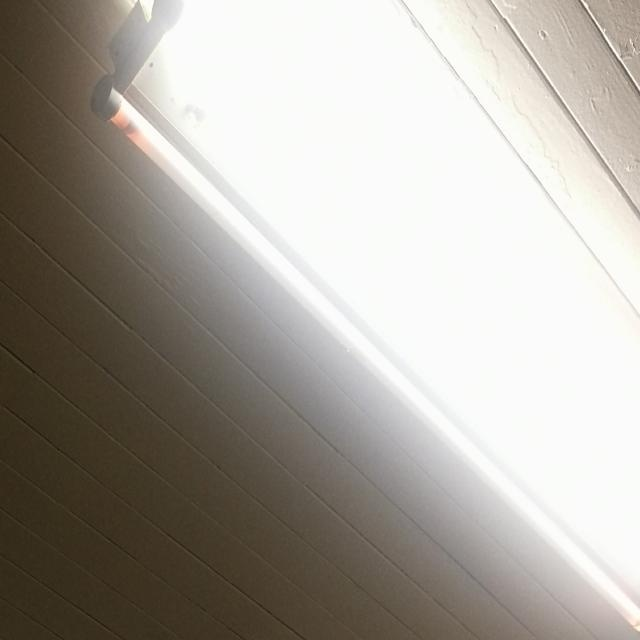fluorescent tube: (50, 2, 640, 640)
